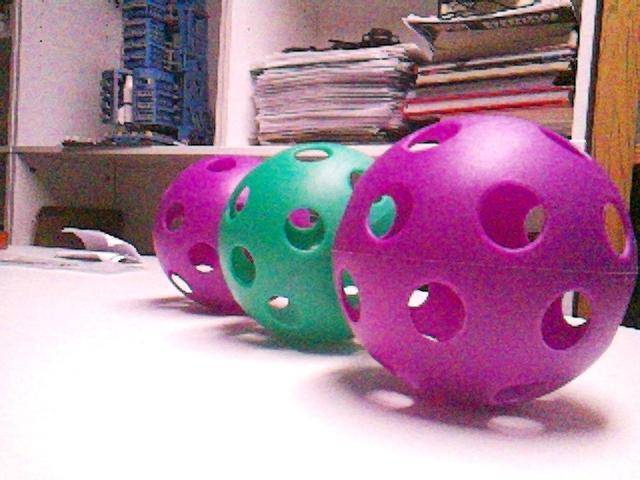Green: (219, 143, 379, 346)
Purple: (335, 119, 628, 401), (156, 155, 263, 314)
